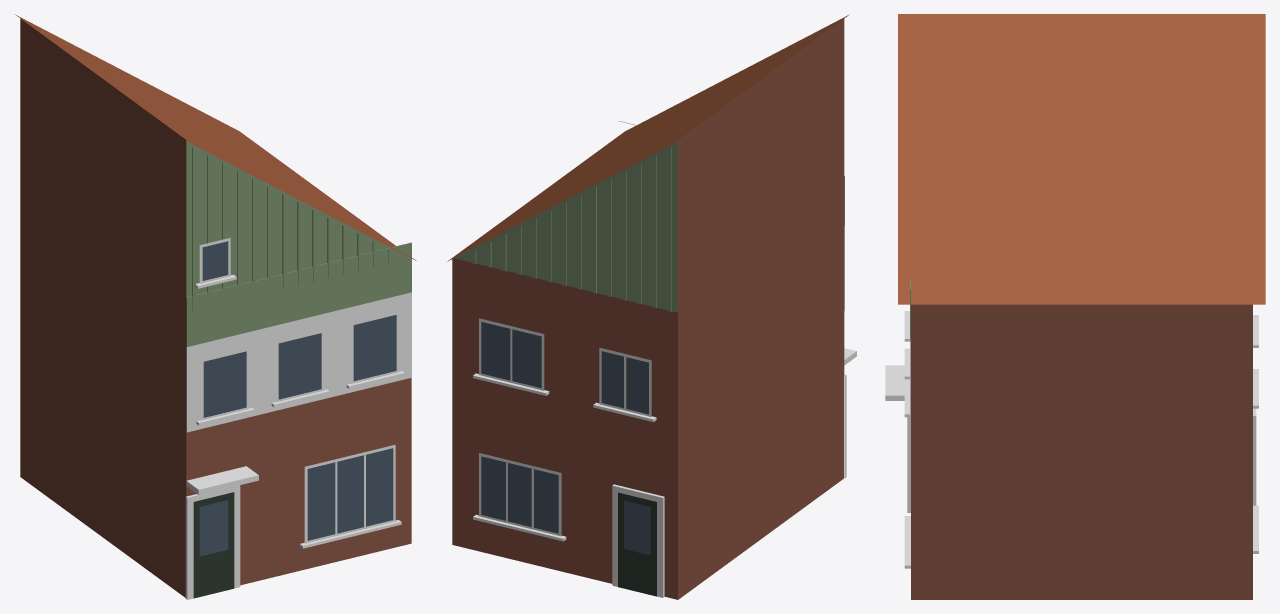
The model's file is nd-bz-green-gable__green__2__gable__short__solid__f1d0__mirror.glb.
The picture shows the model from 3 angles, left to right: view 1: azimuth 30°, elevation 25°; view 2: azimuth 150°, elevation 25°; view 3: azimuth 270°, elevation 25°; orthographic projection. The views are drawn at different scales.
Parts seen in each view (by area): view 1: nd-bz-green-gable__green__2__gable__short__solid__f1d0__mirr; view 2: nd-bz-green-gable__green__2__gable__short__solid__f1d0__mirr; view 3: nd-bz-green-gable__green__2__gable__short__solid__f1d0__mirr.
Part boxes in pixels (<box>): nd-bz-green-gable__green__2__gable__short__solid__f1d0__mirr: <box>15,14,416,599</box>; nd-bz-green-gable__green__2__gable__short__solid__f1d0__mirr: <box>447,14,856,599</box>; nd-bz-green-gable__green__2__gable__short__solid__f1d0__mirr: <box>885,14,1265,599</box>.
Bounding box in the file's own units: 5.26 × 10.2 × 7.44.
